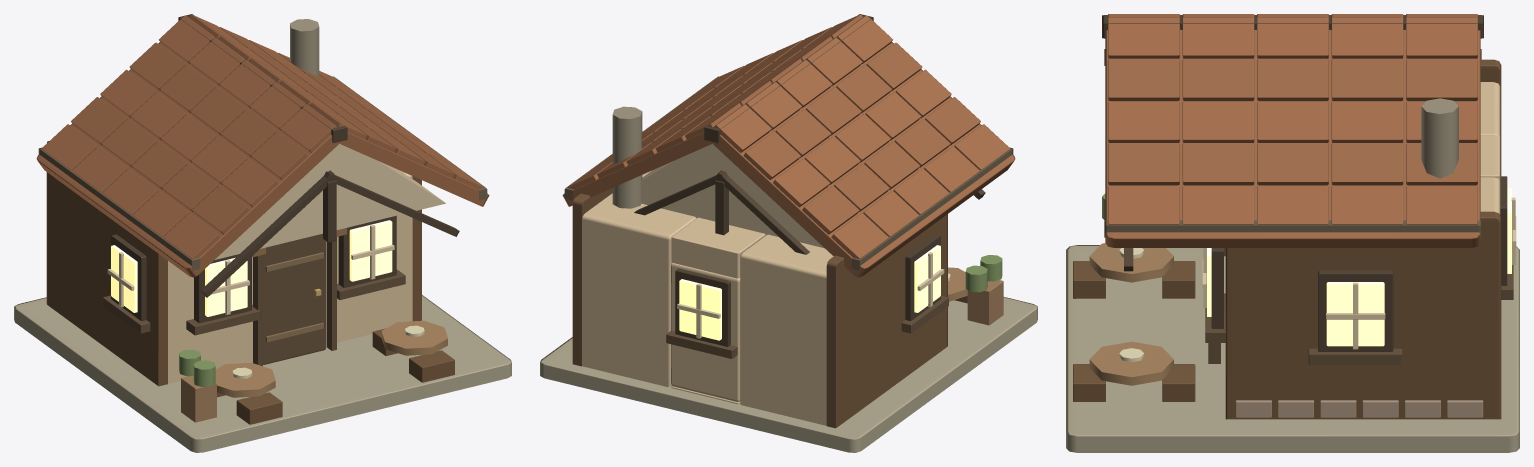
The model's file is restaurant-0.glb.
The picture shows the model from 3 angles, left to right: view 1: azimuth 30°, elevation 25°; view 2: azimuth 150°, elevation 25°; view 3: azimuth 270°, elevation 25°; orthographic projection. The views are drawn at different scales.
Parts seen in each view (by area): view 1: restaurant-0-0, door-hinge; view 2: restaurant-0-0; view 3: restaurant-0-0.
Boxes of the visible parts, box(x1,y1,x2,y2) form: restaurant-0-0: box(14, 14, 511, 452); door-hinge: box(263, 233, 326, 364); restaurant-0-0: box(540, 14, 1037, 452); restaurant-0-0: box(1066, 14, 1519, 452).
Size of the model in its own units: 2.9 by 2.41 by 2.9.
